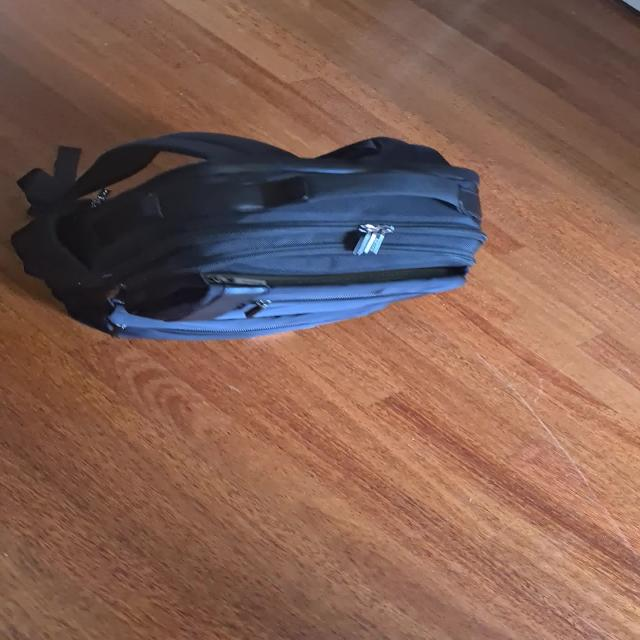backpack: (0, 122, 506, 344)
